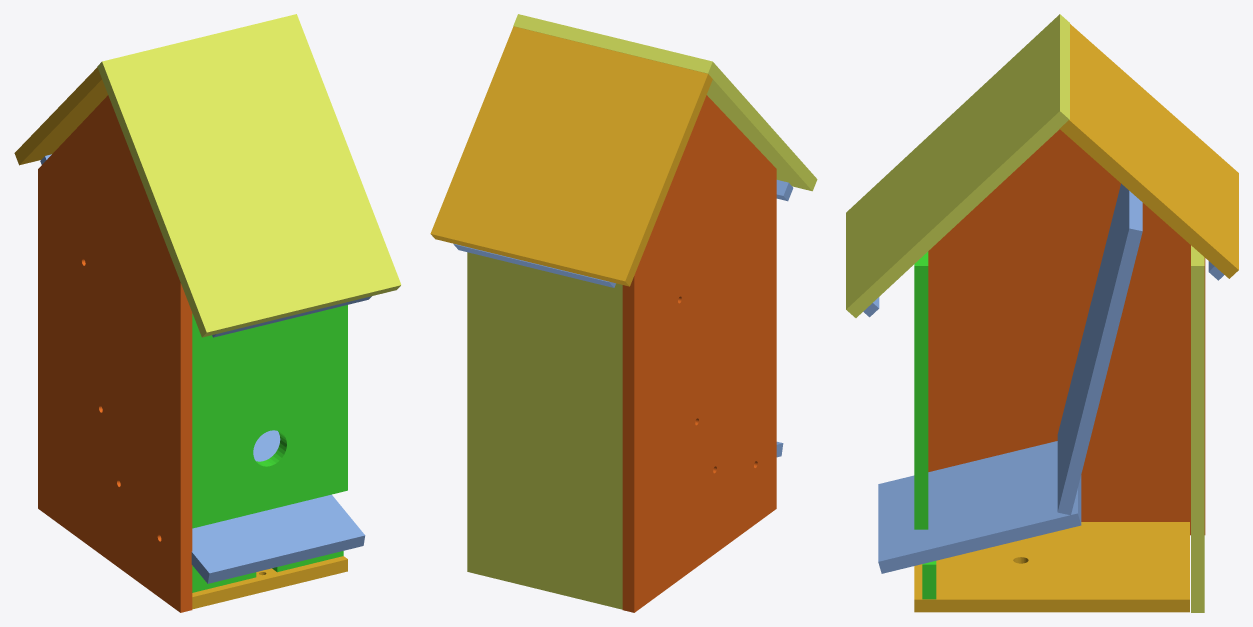
Rendered from birdhouse3D.glb.
3 views of the same model, side by side, from view 1: azimuth 30°, elevation 25°; view 2: azimuth 150°, elevation 25°; view 3: azimuth 270°, elevation 25° (orthographic). The views are drawn at different scales.
Parts seen in each view (by area): view 1: roofbacklatch.003, sidewall, frontwall, silofloor, floor, frontlatch; view 2: sidewall, roofbacklatch.003, backwall; view 3: sidewall, roofbacklatch.003, floor, silofloor, siloback, backwall, frontwall, frontlatch.
Part boxes in pixels (x1,y1,x2,y2): roofbacklatch.003: (14,14,401,337); sidewall: (38,95,192,612); frontwall: (192,305,347,528); silofloor: (191,430,365,583); floor: (192,556,347,609); frontlatch: (192,551,343,592); sidewall: (622,95,776,612); roofbacklatch.003: (430,14,817,287); backwall: (467,252,622,609); sidewall: (928,129,1205,535); roofbacklatch.003: (846,14,1238,317); floor: (914,522,1189,612); silofloor: (878,441,1081,573); siloback: (1057,183,1142,515); backwall: (1191,245,1204,612); frontwall: (914,251,928,529); frontlatch: (922,561,936,599).
Bounding box in the file's own units: 15 × 36.88 × 25.66.
